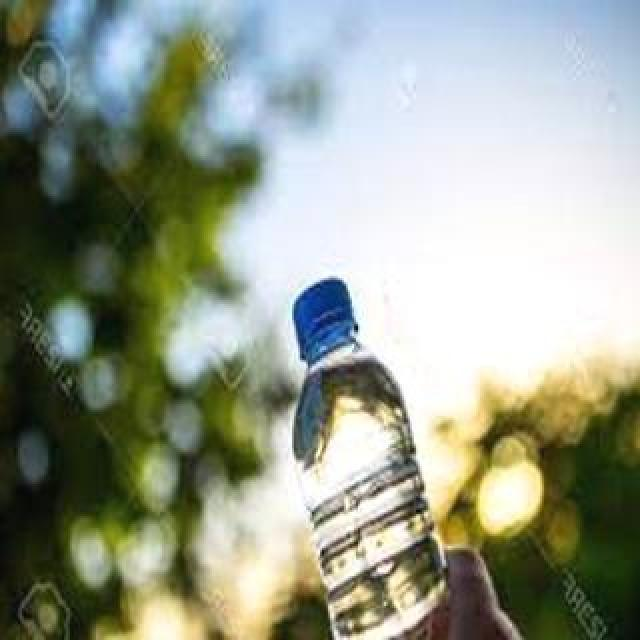Pet_Bottle: (283, 278, 457, 640)
